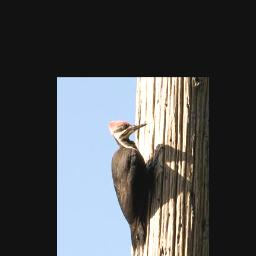Woodpecker: (108, 120, 163, 256)
